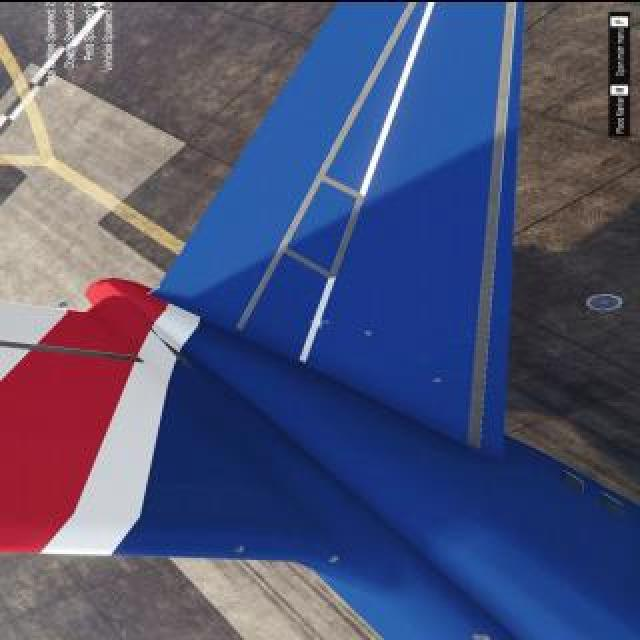crack: (466, 630, 496, 640), (327, 551, 339, 563), (231, 544, 247, 552), (432, 376, 444, 382), (363, 331, 373, 335)
